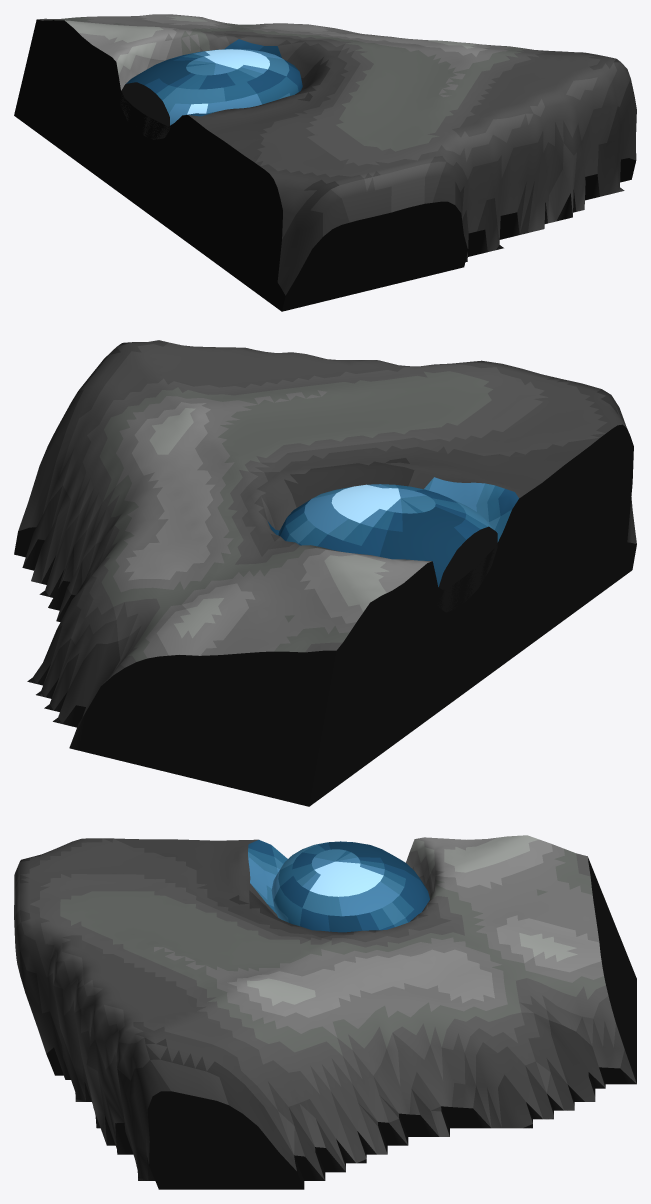
Rendered from spike_hand_br.glb.
3 renders of one model, top to bottom at view 1: azimuth 30°, elevation 25°; view 2: azimuth 150°, elevation 25°; view 3: azimuth 270°, elevation 25°, orthographic. The views are drawn at different scales.
Parts seen in each view (by area): view 1: spike_hand_br; view 2: spike_hand_br; view 3: spike_hand_br.
Boxes of the visible parts, x1,y1,x2,y2 form: spike_hand_br: [14, 14, 636, 311]; spike_hand_br: [14, 340, 636, 806]; spike_hand_br: [14, 835, 636, 1189].
Size of the model in its own units: 24 by 8 by 29.97.
